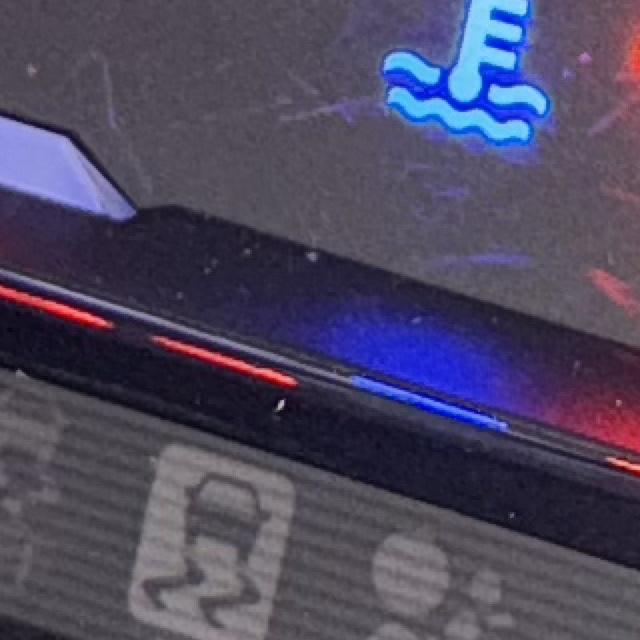High Engine Temperature: (383, 1, 551, 150)
